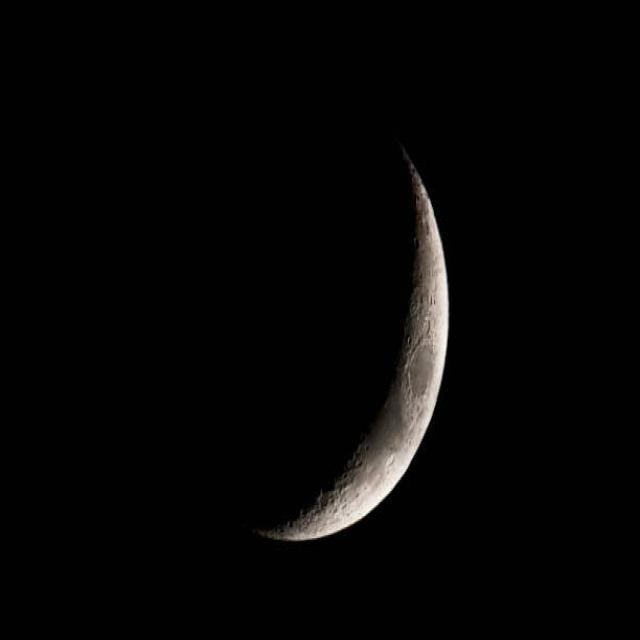moon: (131, 114, 447, 546)
